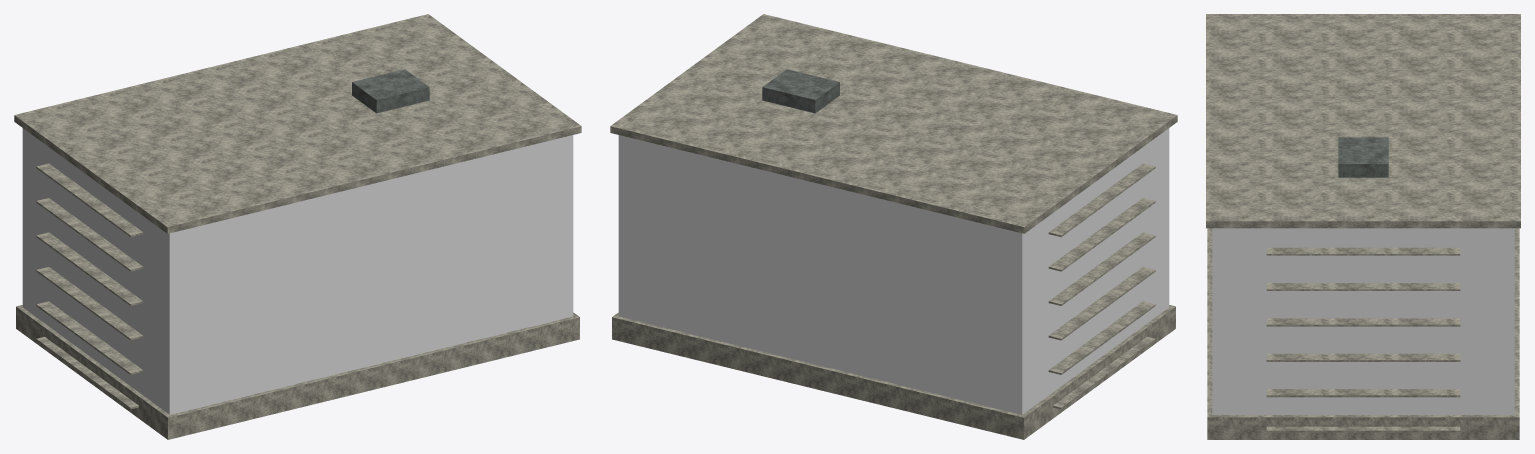
File: Strategic_Office.fbx
The picture shows the model from 3 angles, left to right: view 1: azimuth 30°, elevation 25°; view 2: azimuth 150°, elevation 25°; view 3: azimuth 270°, elevation 25°; orthographic projection. The views are drawn at different scales.
Visible parts, largest first — view 1: Strategic_Office; view 2: Strategic_Office; view 3: Strategic_Office.
Part boxes in pixels (x1,y1,x2,y2): Strategic_Office: [14, 14, 581, 439]; Strategic_Office: [610, 14, 1177, 439]; Strategic_Office: [1206, 14, 1520, 439].
Bounding box in the file's own units: 4040 × 2040 × 2500.
